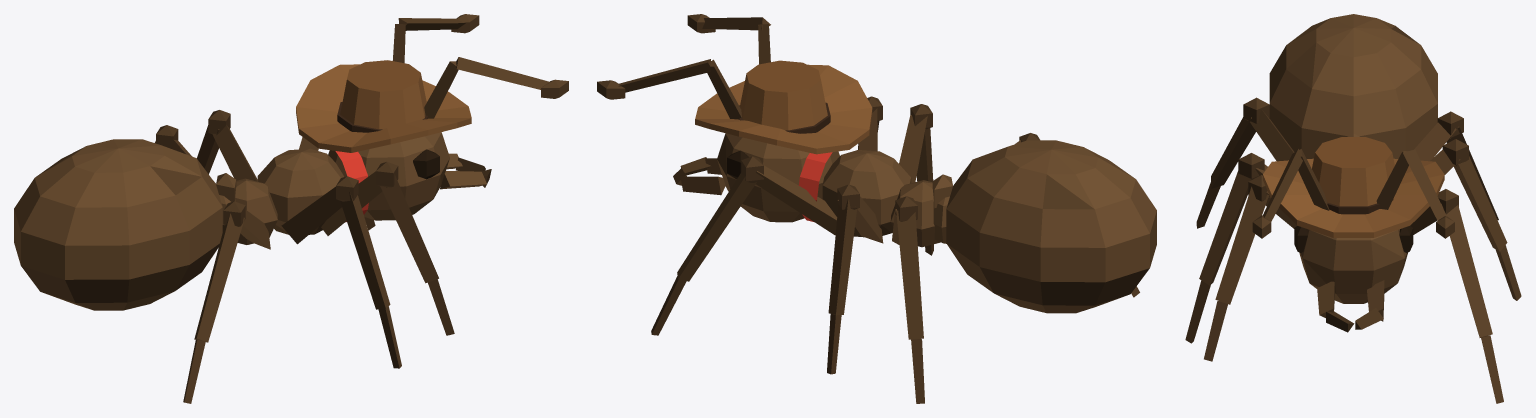
Rendered from ants-rancher.glb.
The picture shows the model from 3 angles, left to right: view 1: azimuth 30°, elevation 25°; view 2: azimuth 150°, elevation 25°; view 3: azimuth 270°, elevation 25°; orthographic projection. The views are drawn at different scales.
Size of the model in its own units: 13.08 by 6.12 by 7.4.
